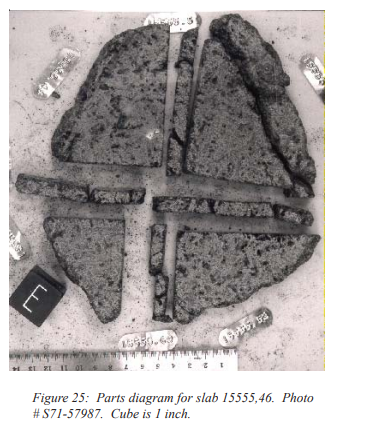Basalt: (84, 39, 297, 194), (60, 210, 308, 305)
